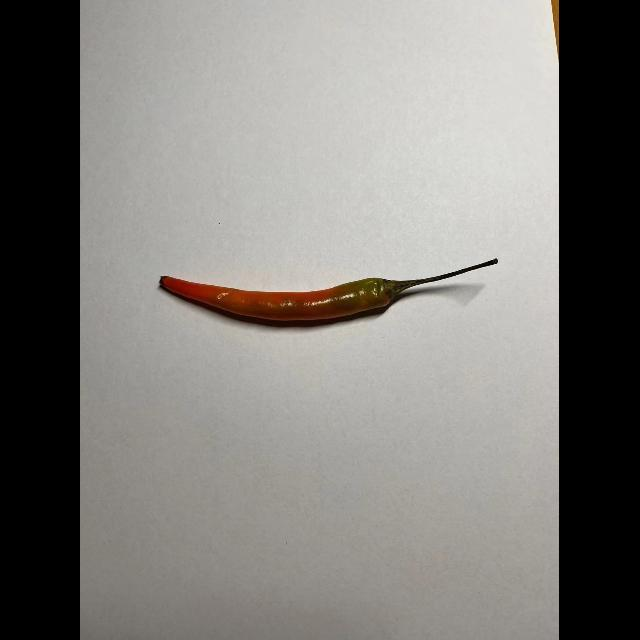chili_pepper: (156, 255, 511, 333)
